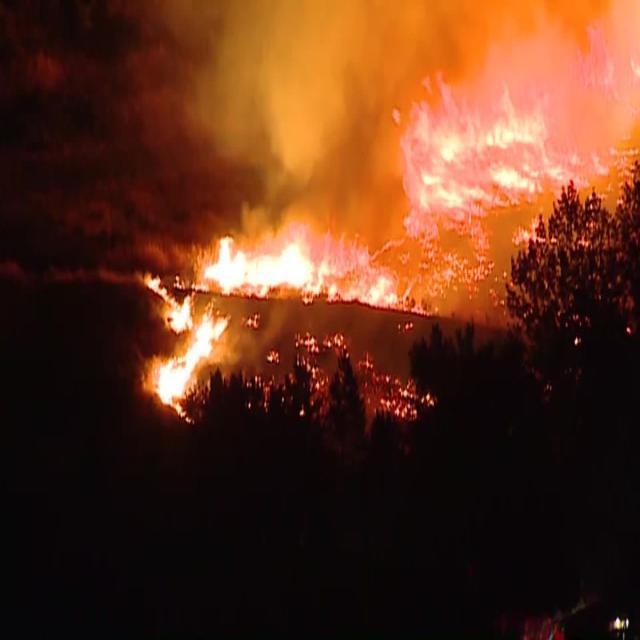Smoke: (183, 0, 393, 232)
